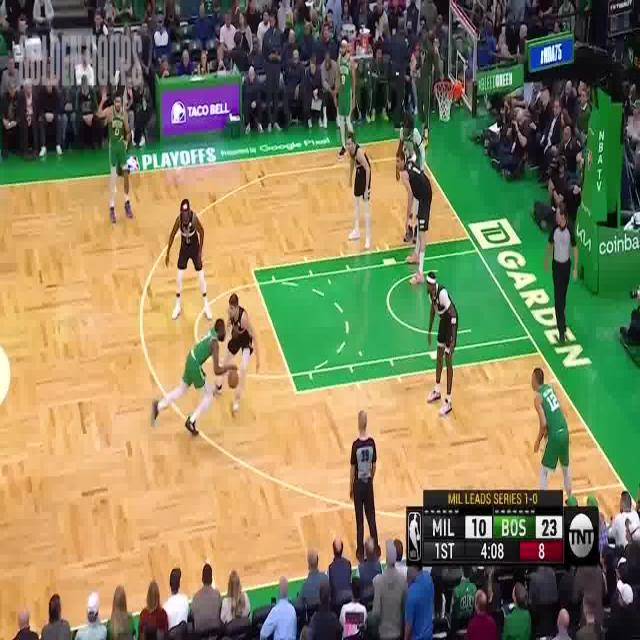ball-handler: (150, 318, 242, 438)
